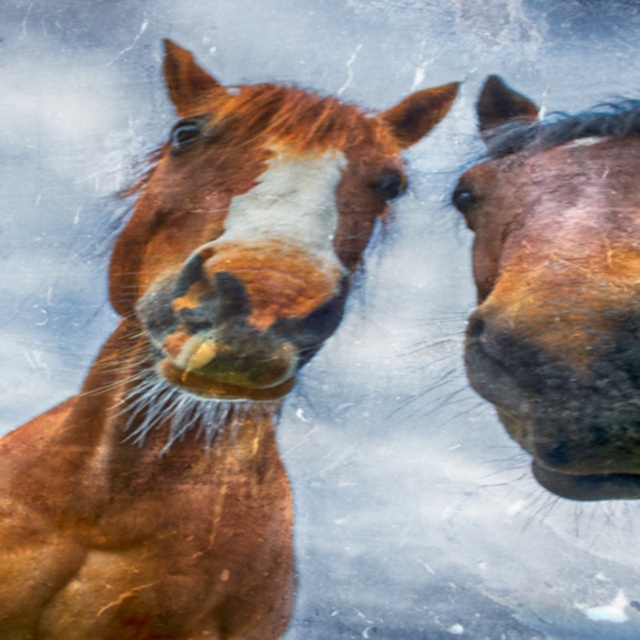Horse: (0, 35, 465, 639), (381, 64, 638, 532)
